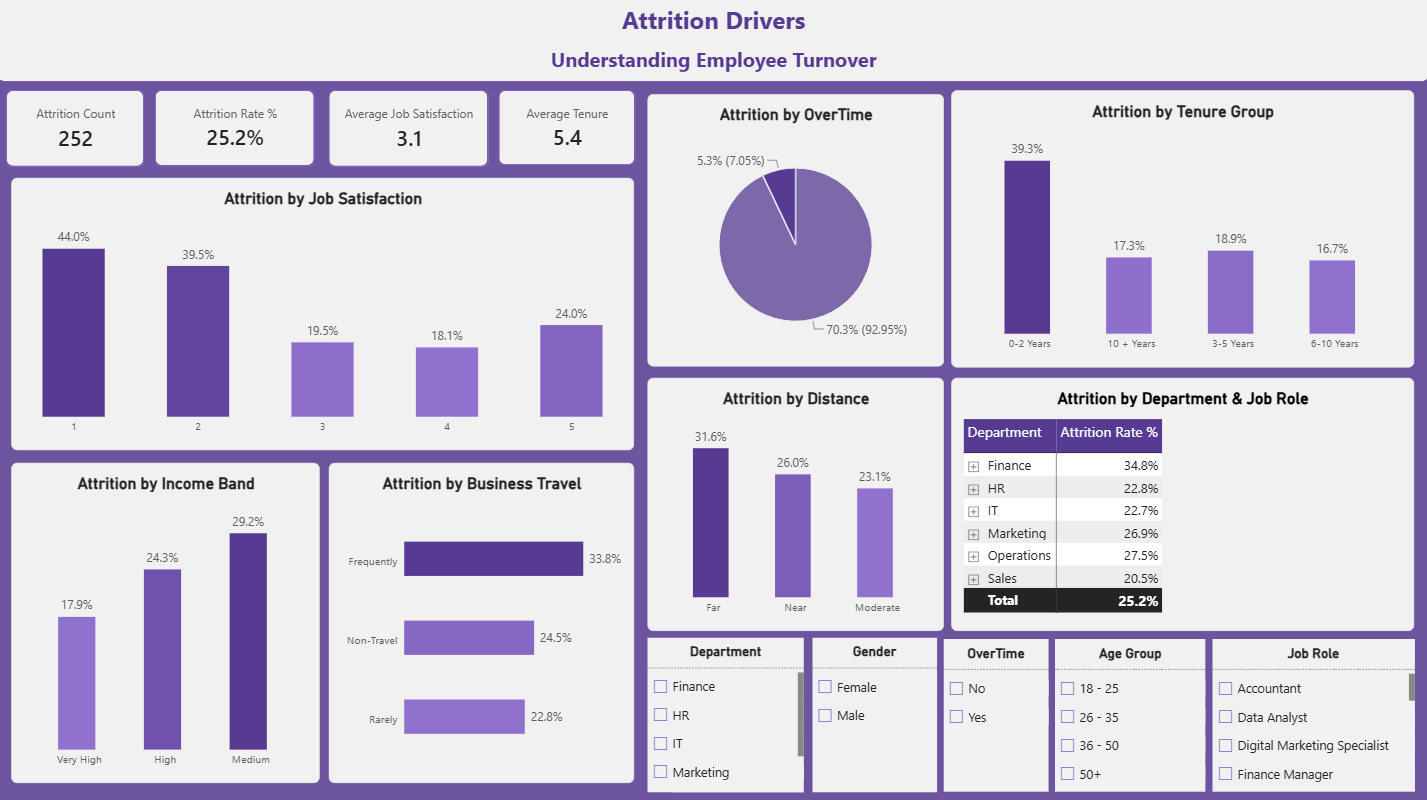

The dashboard page shown, as its layout file describes it:
{"tool":"powerbi","page":{"name":"Attrition Drivers","canvas":[1920,1080],"ordinal":2},"visuals":[{"type":"shape","box":[0,0,1920.1,68.8],"z":0},{"type":"cardVisual","fields":{"Data":["HR_Data.Attrition Count"]},"box":[15.1,128.7,184,102],"z":1000},{"type":"cardVisual","fields":{"Data":["HR_Data.Attrition Rate %"]},"box":[213.5,128.5,213.5,101.3],"z":2000},{"type":"cardVisual","fields":{"Data":["HR_Data.Average Tenure"]},"box":[672.5,128.8,182.5,100],"z":3000},{"type":"cardVisual","fields":{"Data":["HR_Data.Average Job Satisfaction"]},"box":[445,128.8,213.8,102.5],"z":4000},{"type":"pieChart","title":"Attrition by OverTime","fields":{"Category":["HR_Data.OverTime"],"Y":["HR_Data.Attrition Rate %"]},"box":[872,134,396,364],"z":5000},{"type":"columnChart","title":"Attrition by Job Satisfaction","fields":{"Category":["HR_Data.JobSatisfaction"],"Y":["HR_Data.Attrition Rate %"]},"box":[22,246,832,364],"z":6000},{"type":"columnChart","title":"Attrition by Tenure Group","fields":{"Category":["HR_Data.Tenure_Group"],"Y":["HR_Data.Attrition Rate %"]},"box":[1278,128,618,370],"z":7000},{"type":"columnChart","title":"Attrition by Income Band","fields":{"Category":["HR_Data.Income_Band"],"Y":["HR_Data.Attrition Rate %"]},"box":[22,626,412,428],"z":8000},{"type":"barChart","title":"Attrition by Business Travel","fields":{"Category":["HR_Data.BusinessTravel"],"Y":["HR_Data.Attrition Rate %"]},"box":[446,626,408,428],"z":9000},{"type":"columnChart","title":"Attrition by Distance ","fields":{"Category":["HR_Data.Distance_Group"],"Y":["HR_Data.Attrition Rate %"]},"box":[872,512,396,338],"z":10000},{"type":"pivotTable","title":"Attrition by Department & Job Role","fields":{"Rows":["HR_Data.Department","HR_Data.JobRole"],"Values":["HR_Data.Attrition Rate %"]},"box":[1278,512,618,338],"z":11000},{"type":"shape","box":[0,56.7,1920,60],"z":12000},{"type":"slicer","title":"Department","fields":{"Values":["HR_Data.Department"]},"box":[872,860,209,206],"z":12001},{"type":"slicer","title":"Job Role","fields":{"Values":["HR_Data.JobRole"]},"box":[1626,862,270,204],"z":12002},{"type":"slicer","title":"Gender","fields":{"Values":["HR_Data.Gender"]},"box":[1092,860,166,206],"z":12003},{"type":"slicer","title":"OverTime","fields":{"Values":["HR_Data.OverTime"]},"box":[1268,862,140,204],"z":12004},{"type":"slicer","title":"Age Group","fields":{"Values":["HR_Data.Age_Group"]},"box":[1416,862,201,204],"z":12005}]}

Visuals, with their boxes in screenshot pixels (x1, y1, x2, y2), scaled from the page's 1920x1080 canvas onto the 1427x800 screenshot:
shape: pyautogui.locateOnScreen(0, 0, 1426, 51)
cardVisual - HR_Data.Attrition Count: pyautogui.locateOnScreen(11, 95, 148, 171)
cardVisual - HR_Data.Attrition Rate %: pyautogui.locateOnScreen(159, 95, 317, 170)
cardVisual - HR_Data.Average Tenure: pyautogui.locateOnScreen(500, 95, 635, 169)
cardVisual - HR_Data.Average Job Satisfaction: pyautogui.locateOnScreen(331, 95, 490, 171)
"Attrition by OverTime" pieChart: pyautogui.locateOnScreen(648, 99, 942, 369)
"Attrition by Job Satisfaction" columnChart: pyautogui.locateOnScreen(16, 182, 635, 452)
"Attrition by Tenure Group" columnChart: pyautogui.locateOnScreen(950, 95, 1409, 369)
"Attrition by Income Band" columnChart: pyautogui.locateOnScreen(16, 464, 323, 781)
"Attrition by Business Travel" barChart: pyautogui.locateOnScreen(331, 464, 635, 781)
"Attrition by Distance " columnChart: pyautogui.locateOnScreen(648, 379, 942, 630)
"Attrition by Department & Job Role" pivotTable: pyautogui.locateOnScreen(950, 379, 1409, 630)
shape: pyautogui.locateOnScreen(0, 42, 1426, 86)
"Department" slicer: pyautogui.locateOnScreen(648, 637, 803, 790)
"Job Role" slicer: pyautogui.locateOnScreen(1208, 639, 1409, 790)
"Gender" slicer: pyautogui.locateOnScreen(812, 637, 935, 790)
"OverTime" slicer: pyautogui.locateOnScreen(942, 639, 1046, 790)
"Age Group" slicer: pyautogui.locateOnScreen(1052, 639, 1202, 790)
